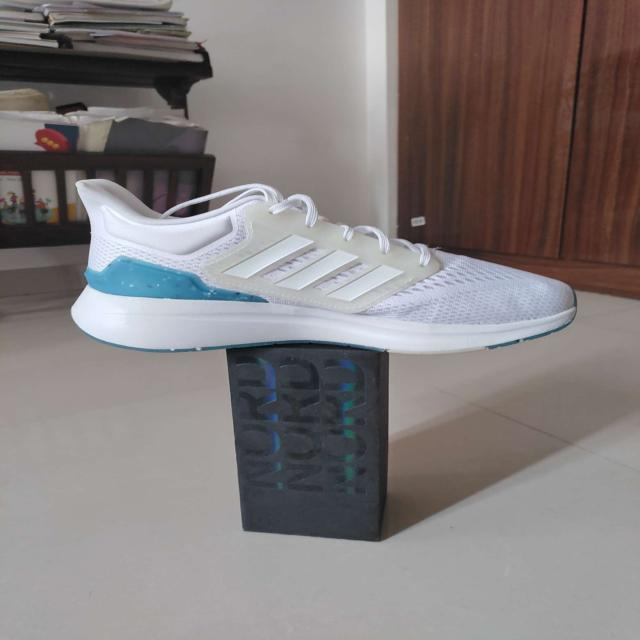shoe: (66, 178, 578, 354)
